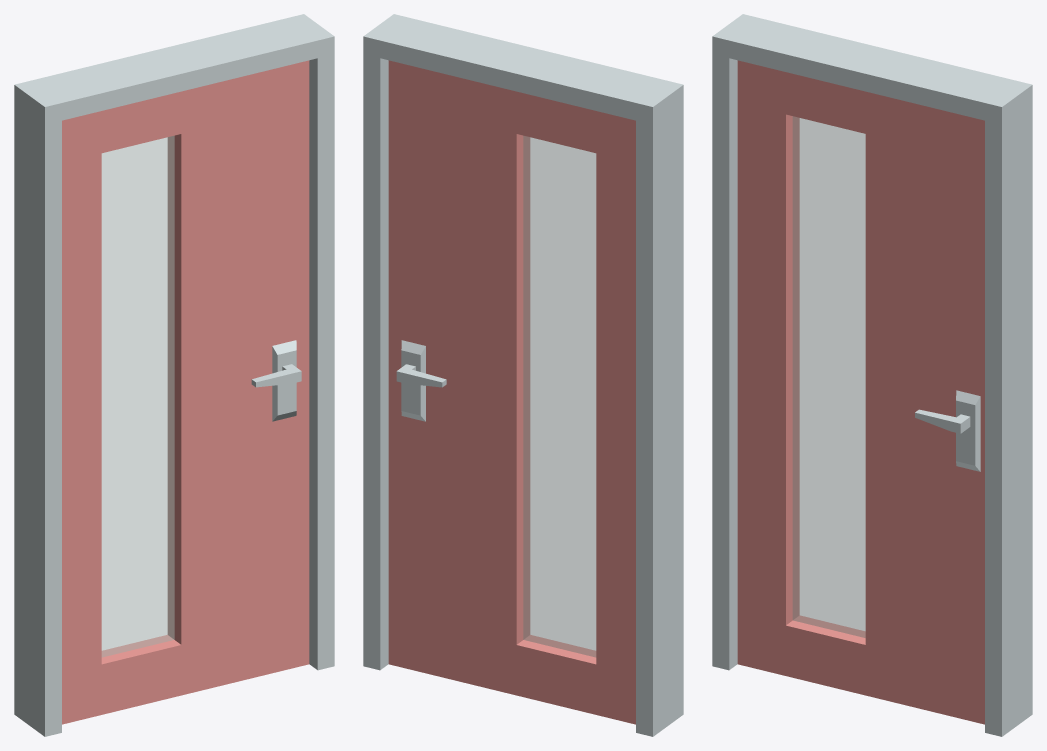
The model's file is porta-casa.glb.
3 views of the same model, side by side, from view 1: azimuth 30°, elevation 25°; view 2: azimuth 150°, elevation 25°; view 3: azimuth 330°, elevation 25° (orthographic).
Visible parts, largest first — view 1: door, doorwayFront(Clone); view 2: door, doorwayFront(Clone); view 3: door, doorwayFront(Clone).
Part boxes in pixels (x1,y1,x2,y2): door: (62,60,309,724); doorwayFront(Clone): (14,14,334,736); door: (388,60,635,724); doorwayFront(Clone): (363,14,683,736); door: (737,60,984,724); doorwayFront(Clone): (712,14,1032,736).
Size of the model in its own units: 0.486 by 1.01 by 0.1134.
